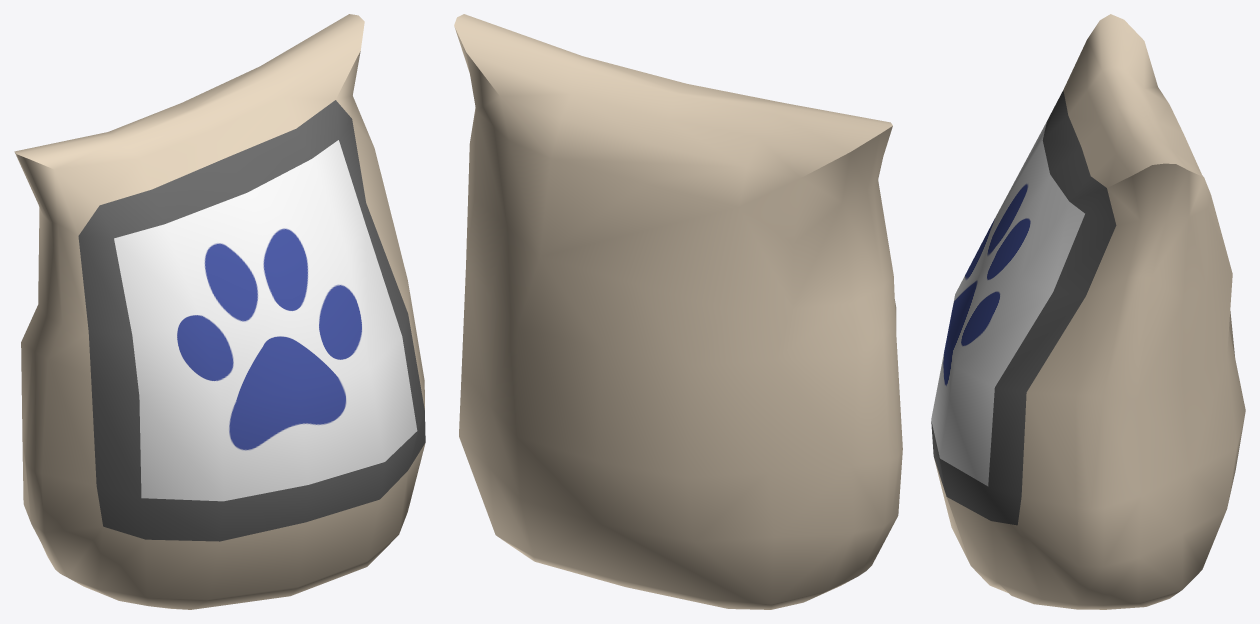
Rendered from animalfood.fbx.
3 renders of one model, left to right at view 1: azimuth 30°, elevation 25°; view 2: azimuth 150°, elevation 25°; view 3: azimuth 270°, elevation 25°, orthographic. The views are drawn at different scales.
Parts seen in each view (by area): view 1: Prop_Bag_Grain_01; view 2: Prop_Bag_Grain_01; view 3: Prop_Bag_Grain_01.
Part boxes in pixels (x1,y1,x2,y2): Prop_Bag_Grain_01: [14, 14, 425, 609]; Prop_Bag_Grain_01: [454, 14, 902, 609]; Prop_Bag_Grain_01: [931, 14, 1245, 609].
Size of the model in its own units: 0.7227 by 0.8289 by 0.5079.
